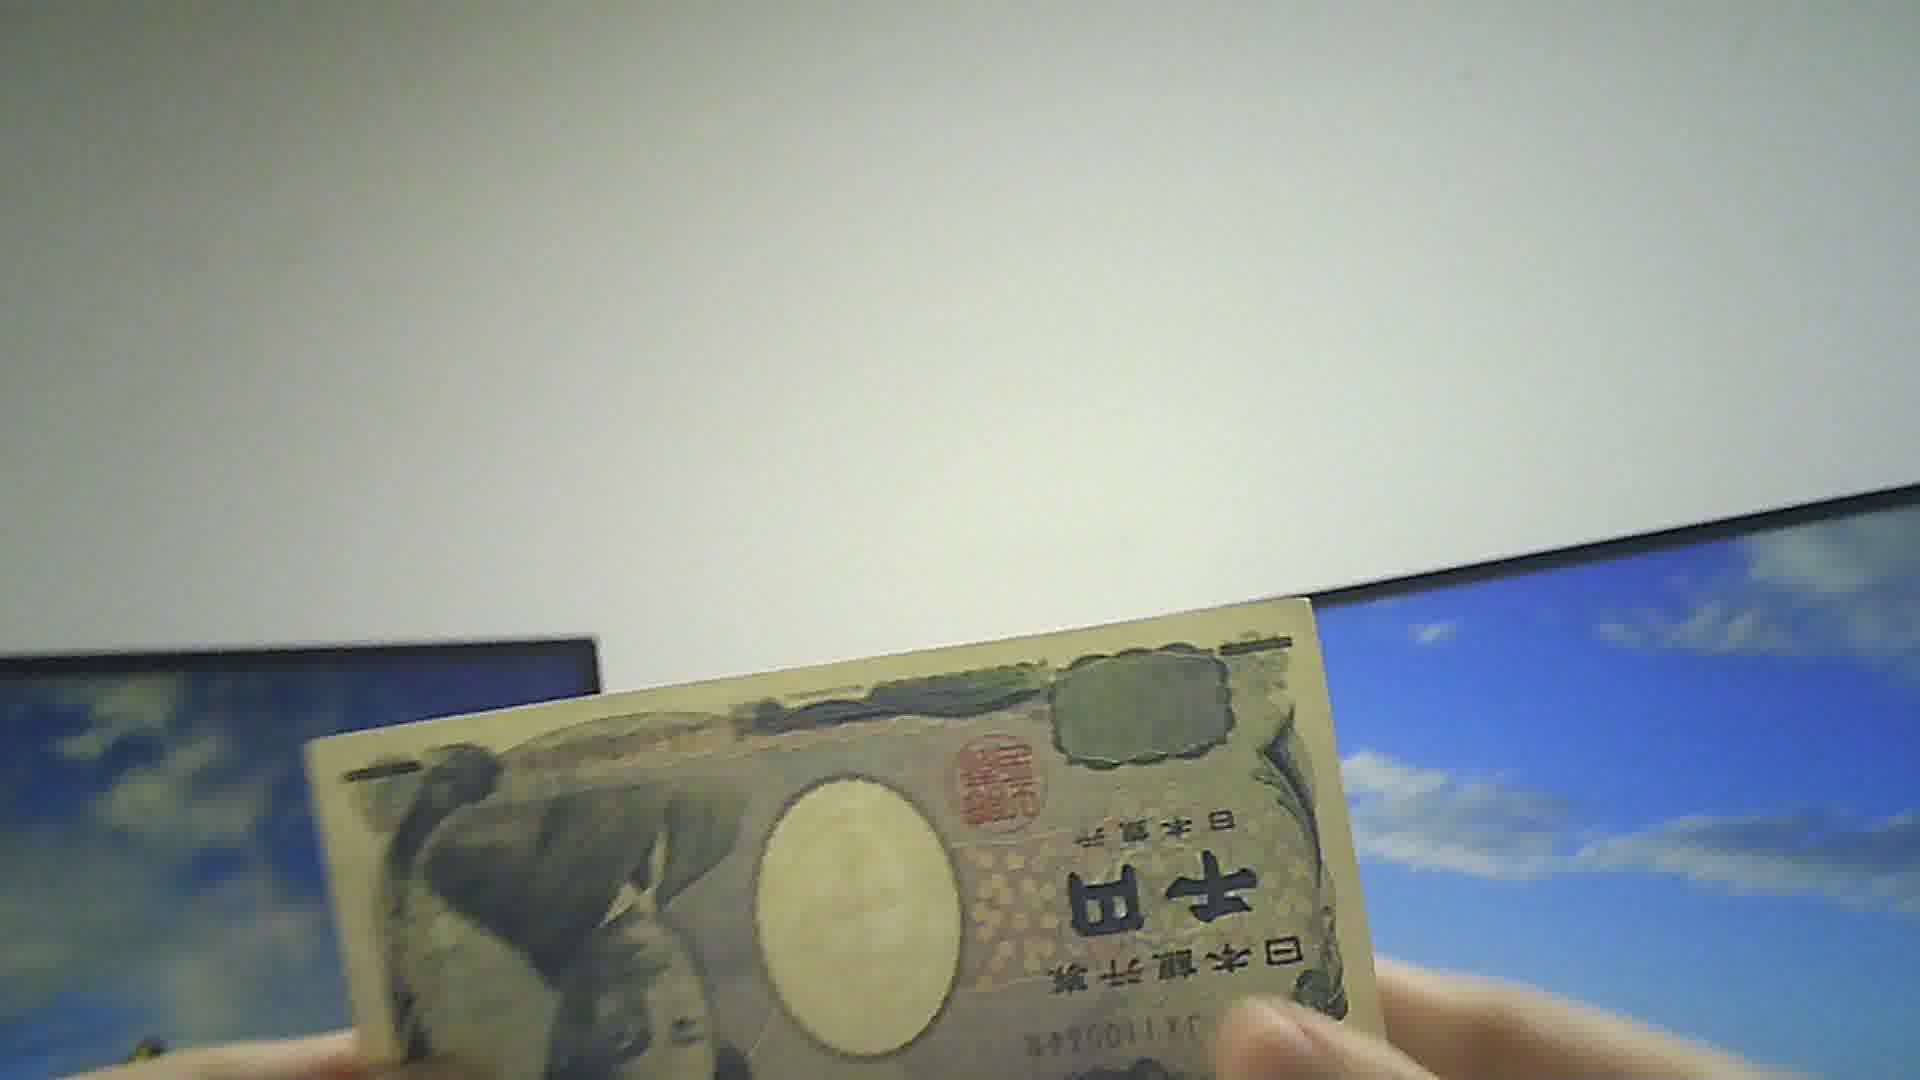1,000 Yen: (314, 597, 1406, 1062)
